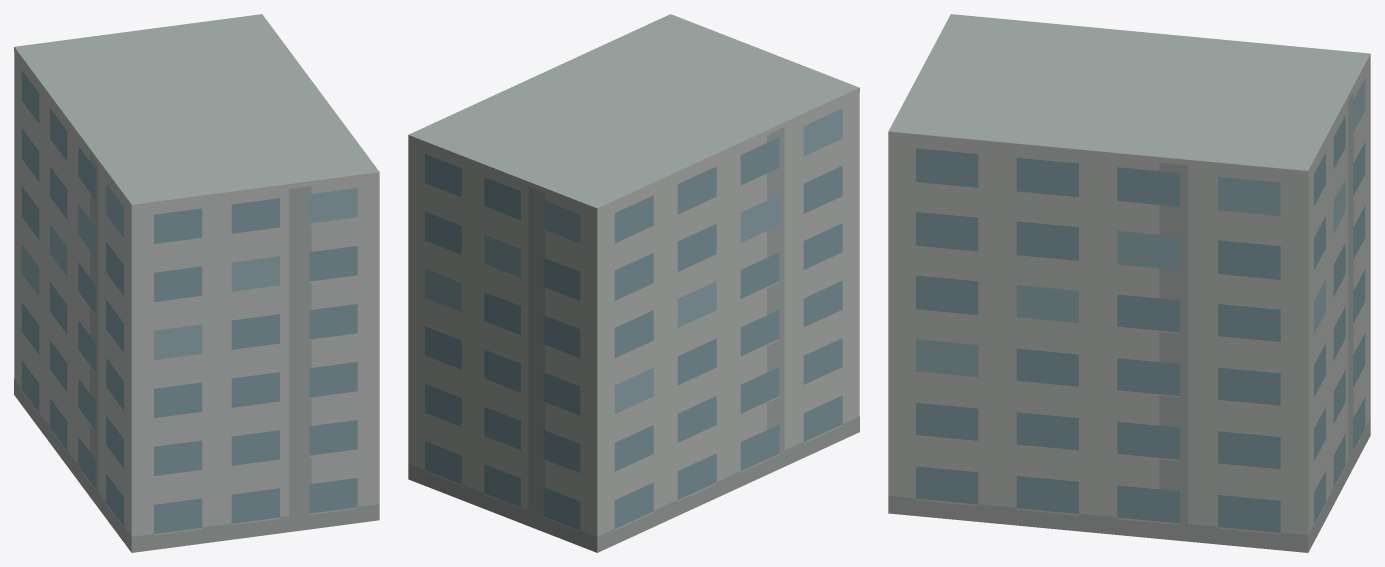
Rendered from survey-upis-32871495.glb.
3 views of the same model, side by side, from view 1: azimuth 30°, elevation 25°; view 2: azimuth 150°, elevation 25°; view 3: azimuth 270°, elevation 25° (orthographic). The views are drawn at different scales.
Visible parts, largest first — view 1: survey-upis-32871495.tmp; view 2: survey-upis-32871495.tmp; view 3: survey-upis-32871495.tmp.
Boxes of the visible parts, left/top/right/bottom form: survey-upis-32871495.tmp: left=14, top=14, right=379, bottom=552; survey-upis-32871495.tmp: left=408, top=14, right=859, bottom=552; survey-upis-32871495.tmp: left=888, top=14, right=1370, bottom=552.
Bounding box in the file's own units: 15.18 × 17.2 × 19.7.
